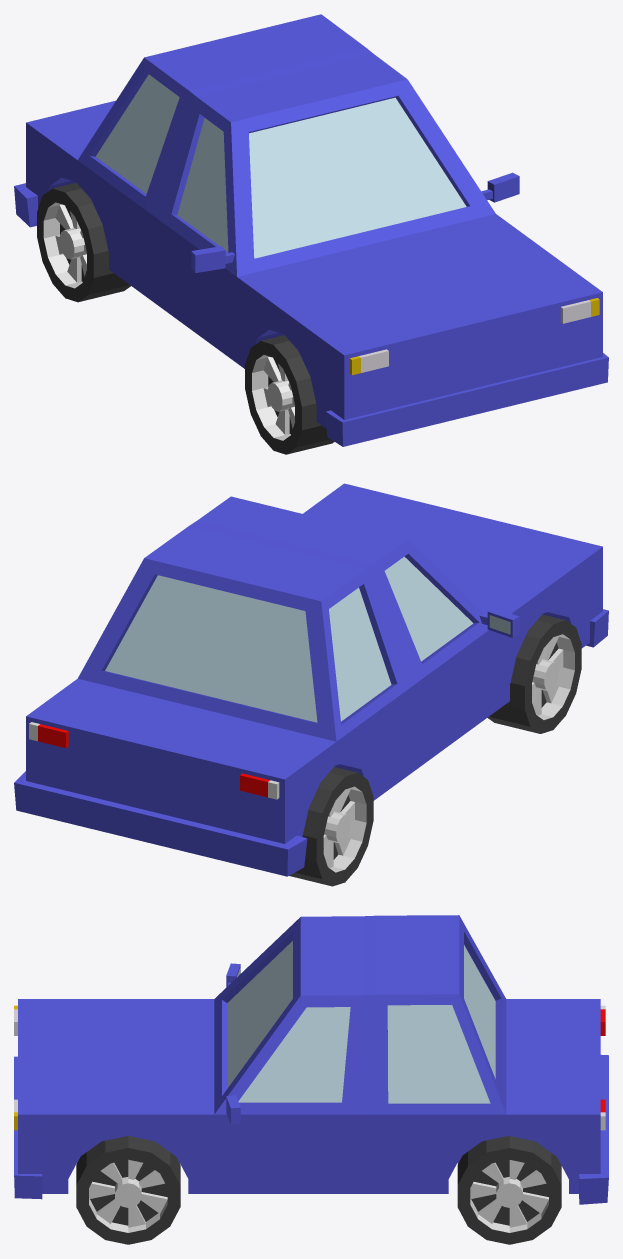
Rendered from car01.fbx.
3 views of the same model, one above another, from view 1: azimuth 30°, elevation 25°; view 2: azimuth 150°, elevation 25°; view 3: azimuth 270°, elevation 25° (orthographic). The views are drawn at different scales.
Visible parts, largest first — view 1: Cube.001; view 2: Cube.001; view 3: Cube.001.
Part boxes in pixels (<box>): Cube.001: <box>14,14,608,454</box>; Cube.001: <box>14,483,608,886</box>; Cube.001: <box>14,915,608,1244</box>.
Size of the model in its own units: 280 by 205 by 486.
